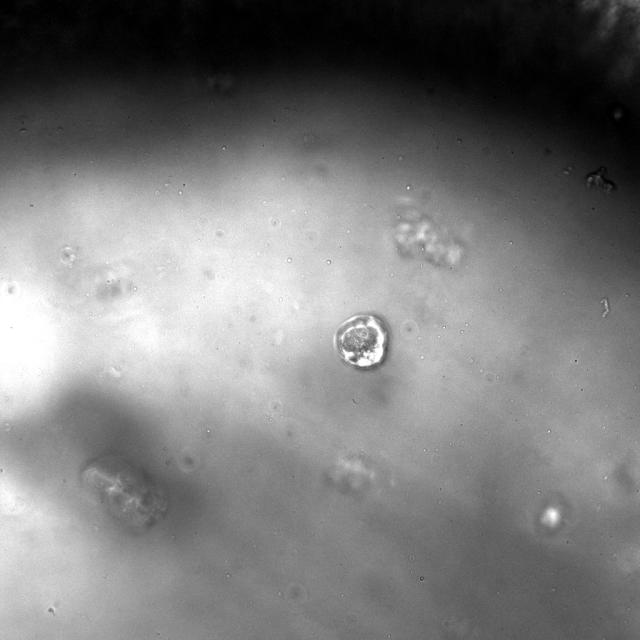organoid: (82, 456, 168, 530), (394, 205, 462, 266), (334, 316, 388, 369)
